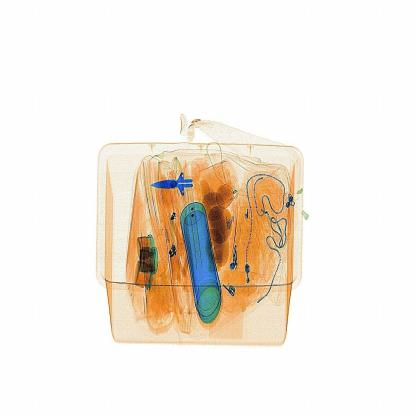gun: (152, 162, 218, 204)
